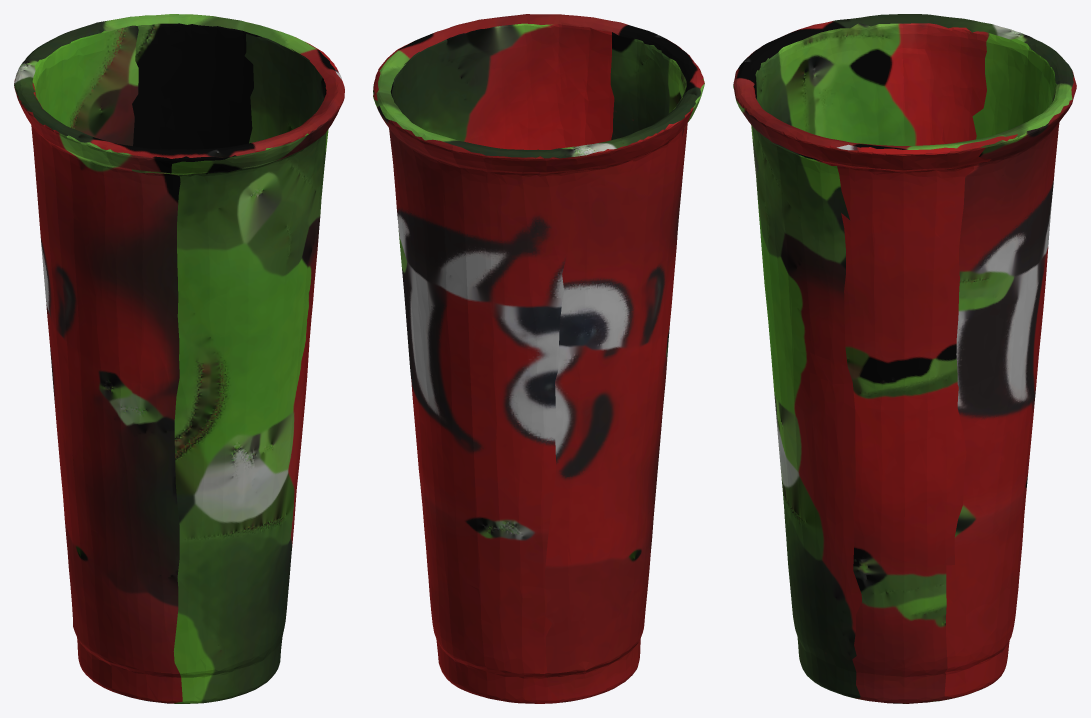
File: sample.obj
3 renders of one model, left to right at view 1: azimuth 30°, elevation 25°; view 2: azimuth 150°, elevation 25°; view 3: azimuth 270°, elevation 25°, orthographic.
Bounding box in the file's own units: 0.0902 × 0.175 × 0.0937.
